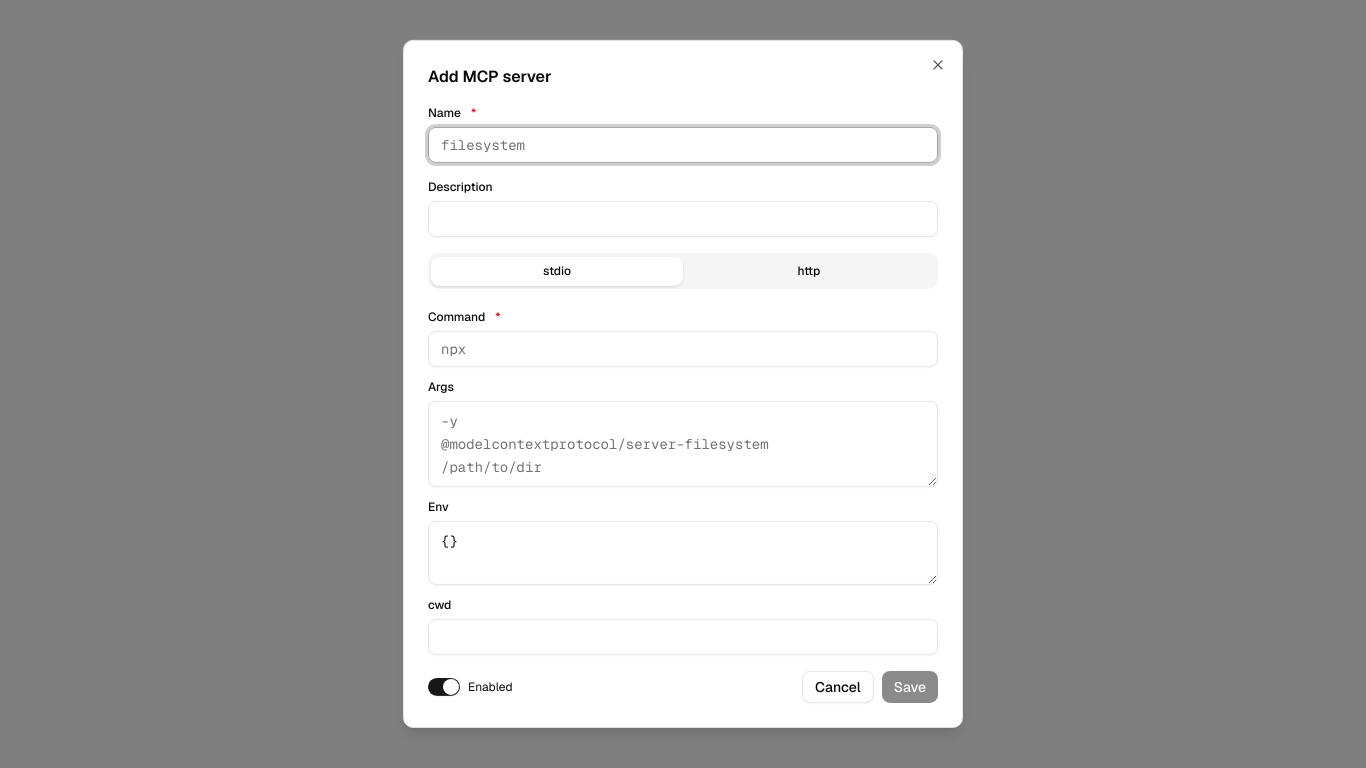
Test: McpFormDialog › transport tab switching › shows http fields after clicking http tab
Click the tab "http": click(809, 271) [683,256,935,285]
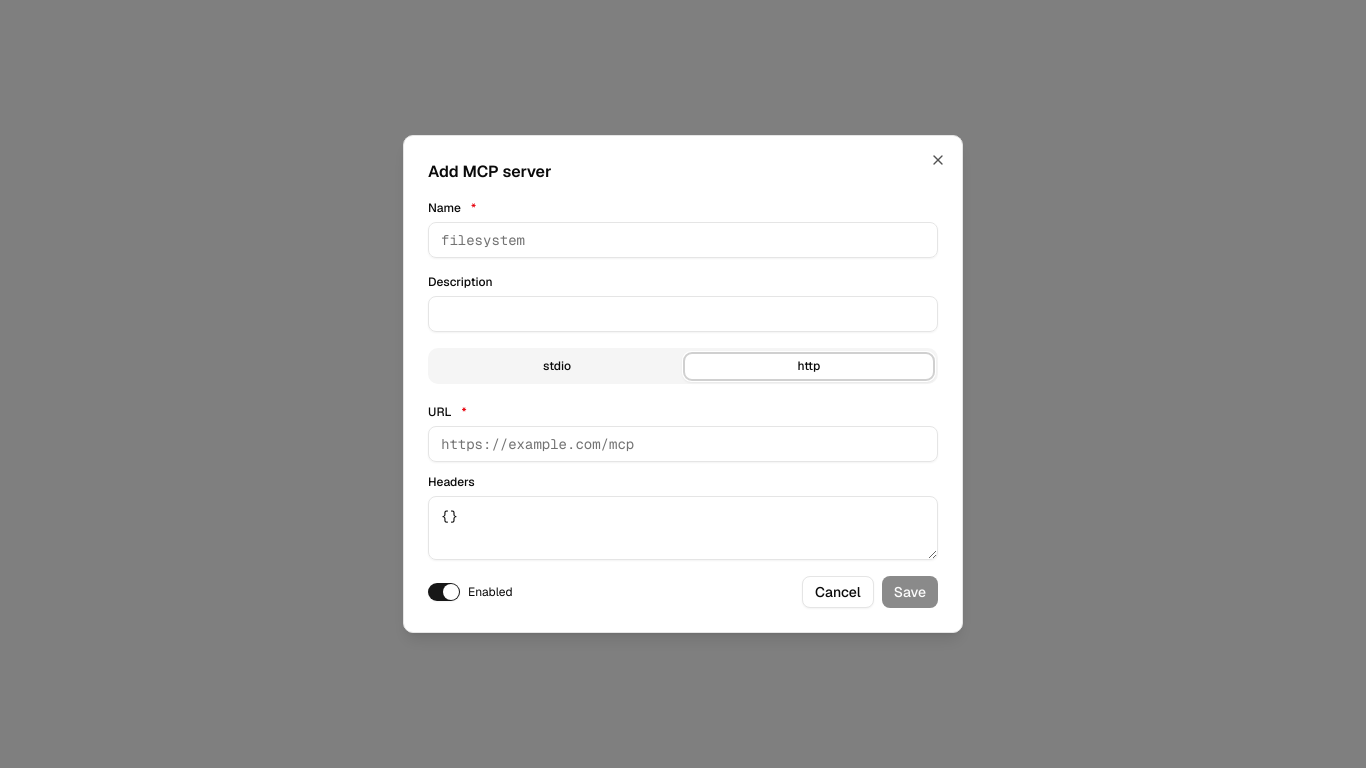
Result: the field labelled "URL *" is shown at [428,426,938,462]
Result: the label "Command" is gone
